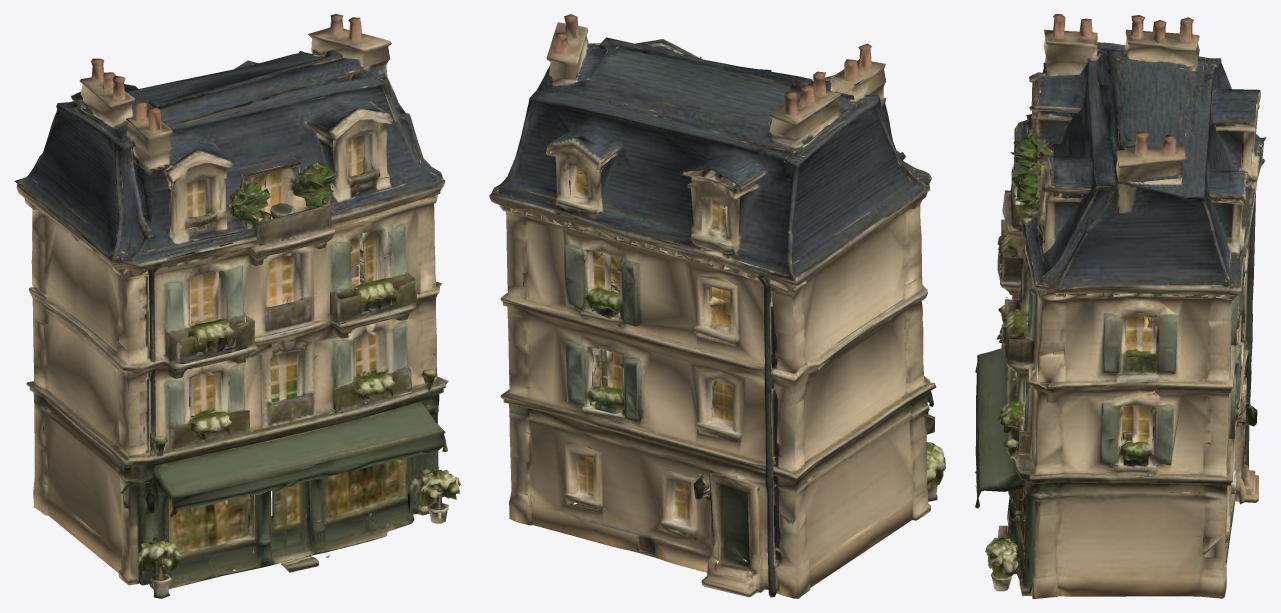
Rendered from shop_3.glb.
3 renders of one model, left to right at view 1: azimuth 30°, elevation 25°; view 2: azimuth 150°, elevation 25°; view 3: azimuth 270°, elevation 25°, orthographic. The views are drawn at different scales.
Visible parts, largest first — view 1: classic__shop_3__neural_lod; view 2: classic__shop_3__neural_lod; view 3: classic__shop_3__neural_lod.
Boxes of the visible parts, x1=… form: classic__shop_3__neural_lod: x1=14, y1=14, x2=460, y2=598; classic__shop_3__neural_lod: x1=489, y1=14, x2=945, y2=598; classic__shop_3__neural_lod: x1=974, y1=14, x2=1266, y2=598.
Bounding box in the file's own units: 0.7577 × 0.9991 × 0.5689.
Materials: 1 (1 with a texture image).
